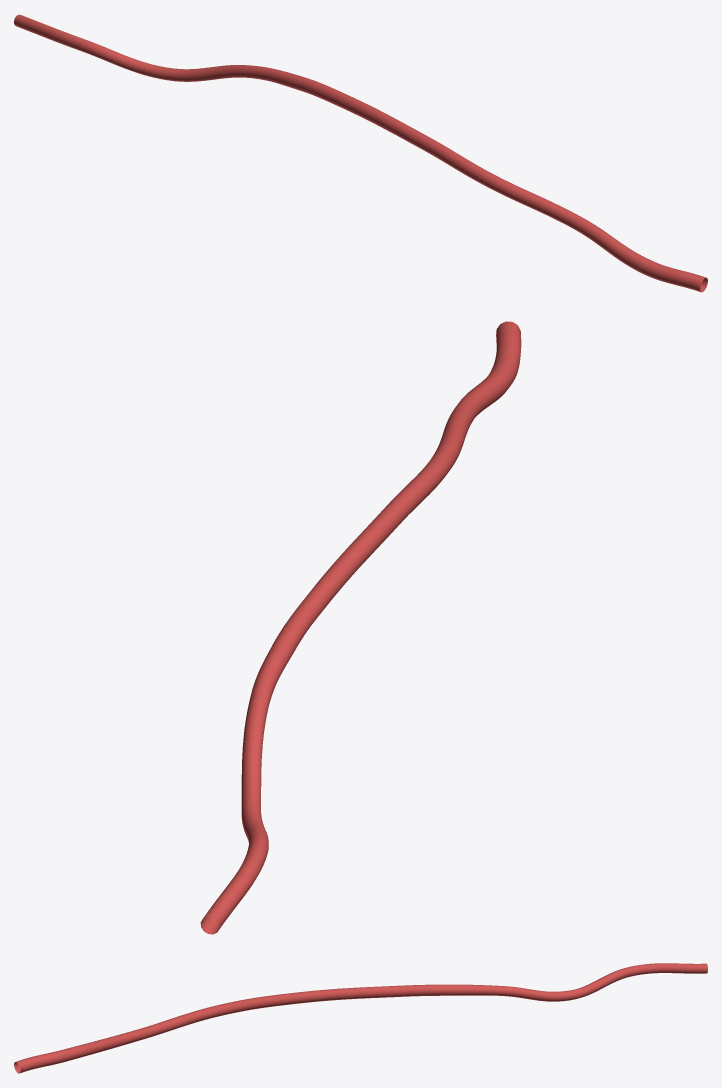
3 views of the same model, one above another, from view 1: azimuth 30°, elevation 25°; view 2: azimuth 150°, elevation 25°; view 3: azimuth 270°, elevation 25° (orthographic). The views are drawn at different scales.
Visible parts, largest first — view 1: 右侧肱动脉; view 2: 右侧肱动脉; view 3: 右侧肱动脉.
Part boxes in pixels (x1,y1,x2,y2): 右侧肱动脉: (14,14,707,292); 右侧肱动脉: (200,321,521,934); 右侧肱动脉: (14,963,707,1073).
Size of the model in its own units: 0.1384 by 0.0269 by 0.4072.
